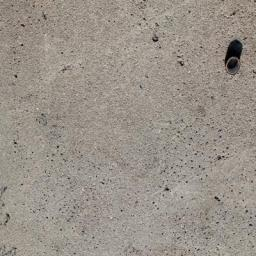FOD: (220, 39, 245, 78)
